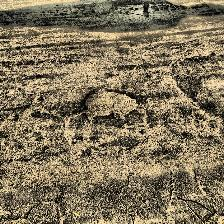pothole: (81, 86, 139, 122)
